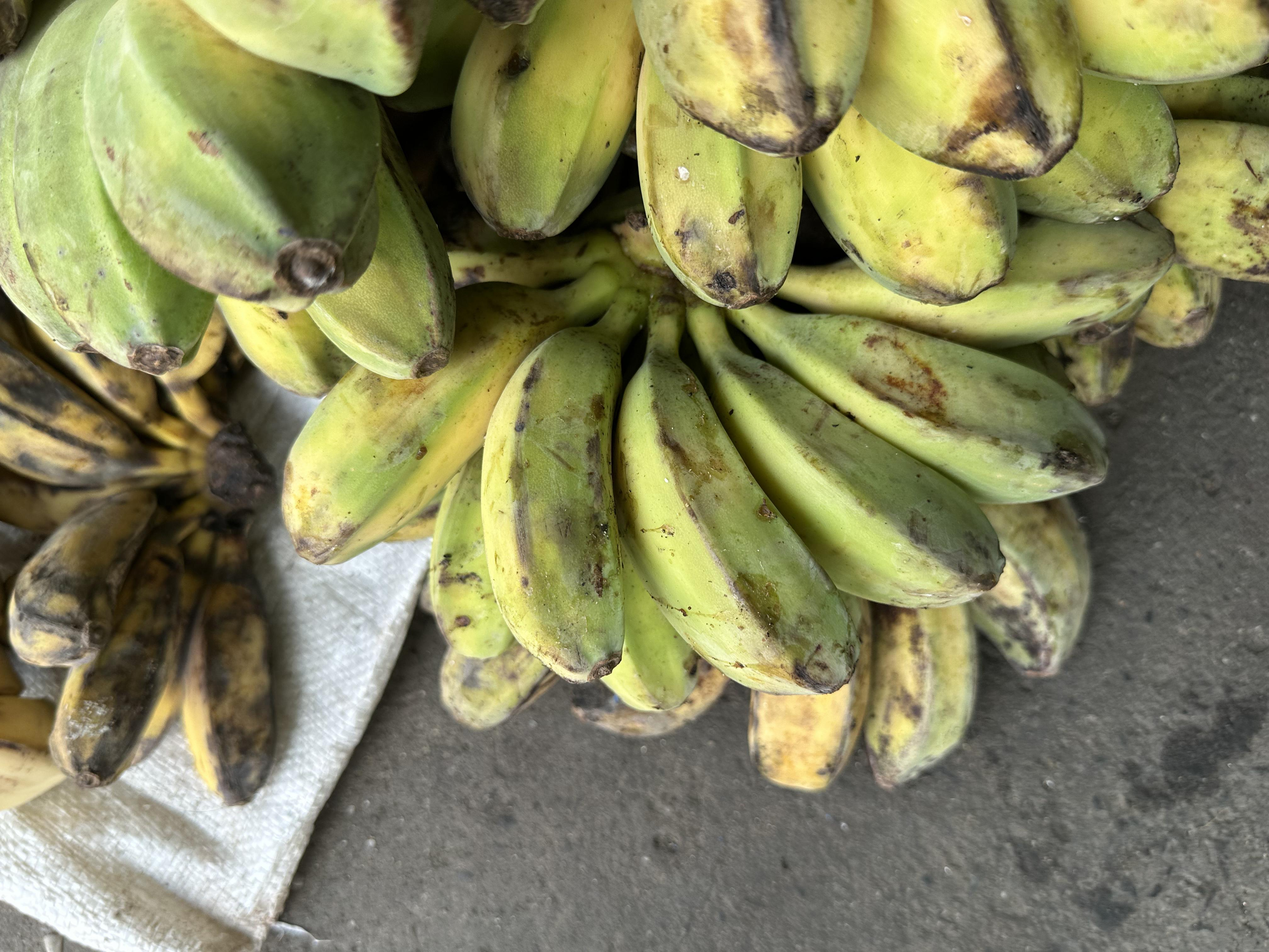ripe: (0, 285, 276, 807)
underripe: (279, 196, 1179, 713), (392, 0, 1269, 308), (0, 0, 455, 396), (748, 497, 1092, 791)
